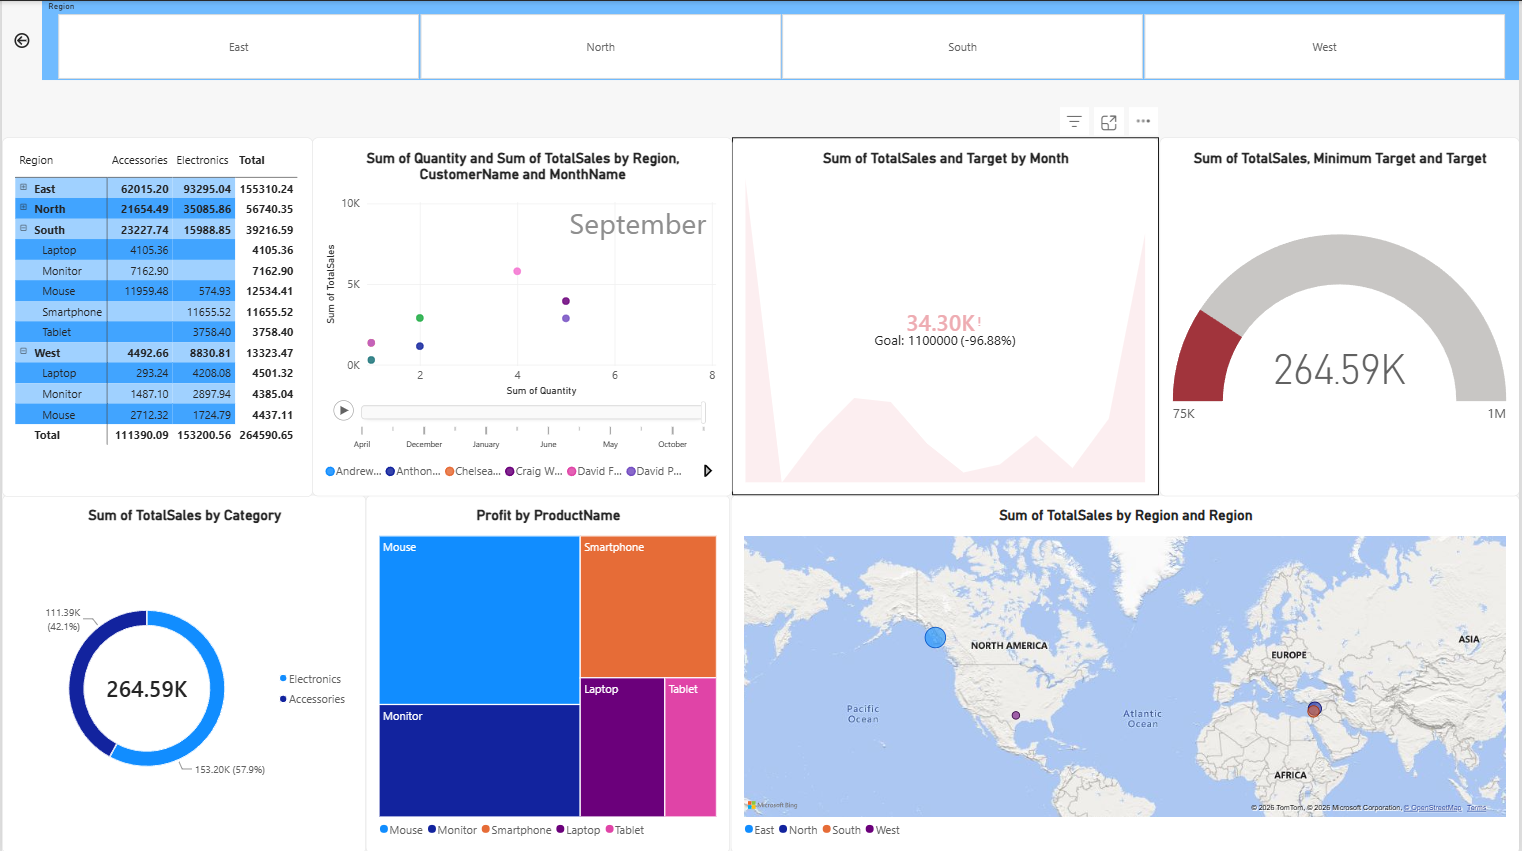

Layout of this report page (visuals, bound fields, positions):
{"tool":"powerbi","page":{"name":"Page 2","canvas":[1920,1080],"ordinal":1},"visuals":[{"type":"donutChart","fields":{"Category":["Dim_Products.Category"],"Y":["Sum(Fact_Sales.TotalSales)"]},"box":[0,625,460.9,454.7],"z":0},{"type":"treemap","fields":{"Group":["Dim_Products.ProductName"],"Values":["Fact_Sales.Profit"]},"box":[460.9,625,460.9,454.7],"z":1000},{"type":"map","fields":{"Category":["Dim_Customers.Region"],"Series":["Dim_Customers.Region"],"Size":["Sum(Fact_Sales.TotalSales)"]},"box":[921.9,625,998.4,454.7],"z":2000},{"type":"kpi","fields":{"Goal":["Fact_Sales.Target"],"Indicator":["Sum(Fact_Sales.TotalSales)"],"TrendLine":["Dim_Date.Month"]},"box":[924,172,540,454],"z":3000},{"type":"gauge","fields":{"MaxValue":["Fact_Sales.Target"],"MinValue":["Fact_Sales.Minimum Target"],"Y":["Sum(Fact_Sales.TotalSales)"]},"box":[1464,172,456,454],"z":4000},{"type":"pivotTable","fields":{"Columns":["Dim_Products.Category"],"Rows":["Dim_Customers.Region","Dim_Products.ProductName"],"Values":["Sum(Fact_Sales.TotalSales)"]},"box":[0,171.7,393.3,455],"z":5000},{"type":"slicer","fields":{"Values":["Dim_Customers.Region"]},"box":[50,0,1870,100],"z":6000},{"type":"actionButton","box":[0,0,50,100],"z":7000},{"type":"scatterChart","fields":{"Category":["Dim_Customers.Region"],"Play":["Dim_Date.MonthName"],"Series":["Dim_Customers.CustomerName"],"X":["Fact_Sales.Sum of Quantity"],"Y":["Sum(Fact_Sales.TotalSales)"]},"box":[392,172,532,454],"z":7001}]}

Visuals, with their boxes in screenshot pixels (x1, y1, x2, y2), scaled from the page's 1920x1080 canvas onto the 1522x851 screenshot:
donutChart - Dim_Products.Category x Sum(Fact_Sales.TotalSales): [x1=0, y1=492, x2=365, y2=850]
treemap - Dim_Products.ProductName x Fact_Sales.Profit: [x1=365, y1=492, x2=731, y2=850]
map - Dim_Customers.Region x Dim_Customers.Region: [x1=731, y1=492, x2=1521, y2=850]
kpi - Fact_Sales.Target x Sum(Fact_Sales.TotalSales): [x1=732, y1=136, x2=1161, y2=493]
gauge - Fact_Sales.Target x Fact_Sales.Minimum Target: [x1=1161, y1=136, x2=1521, y2=493]
pivotTable - Dim_Products.Category x Dim_Customers.Region: [x1=0, y1=135, x2=312, y2=494]
slicer - Dim_Customers.Region: [x1=40, y1=0, x2=1521, y2=79]
actionButton: [x1=0, y1=0, x2=40, y2=79]
scatterChart - Dim_Customers.Region x Dim_Date.MonthName: [x1=311, y1=136, x2=732, y2=493]
